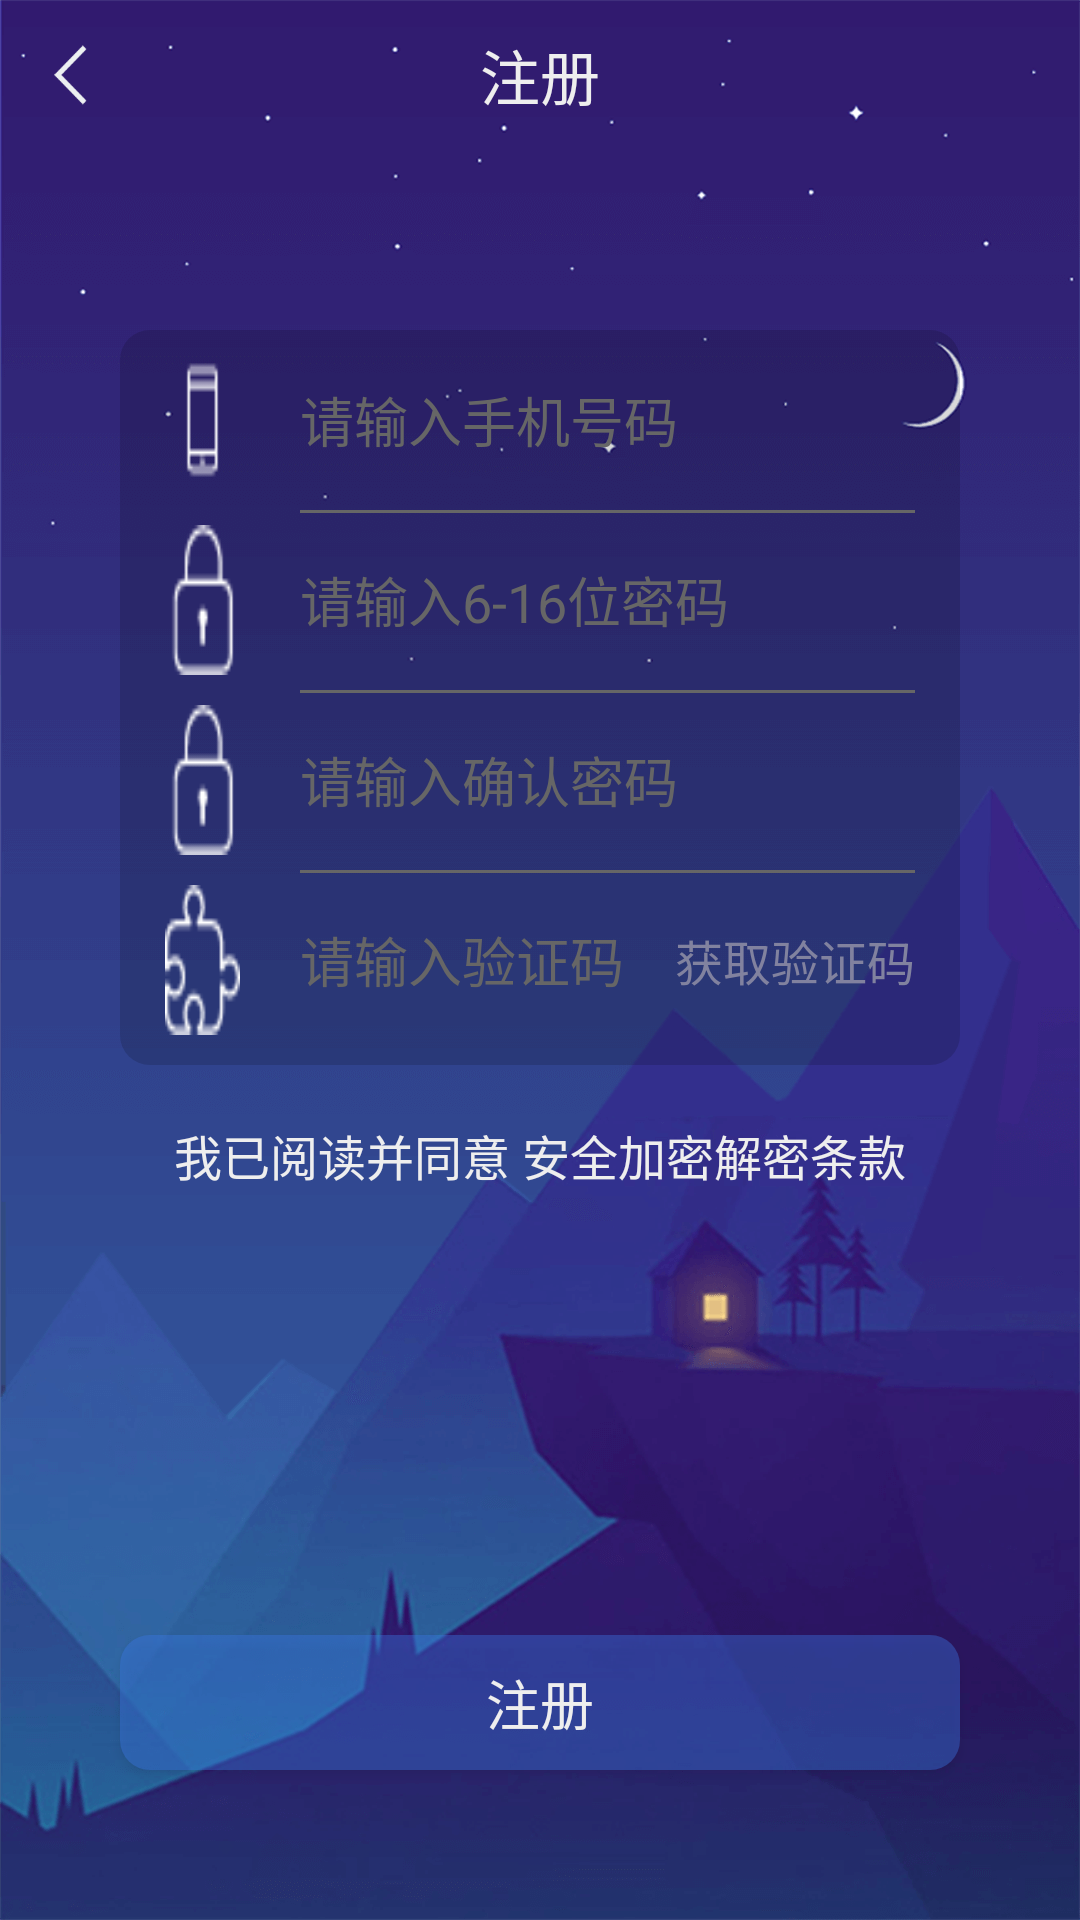

Icon click points for this 1080 × 1920 phone screenshot, format [x,y]:
back: [54,75]
password: [203,600], [202,780]
phone: [192,420]
